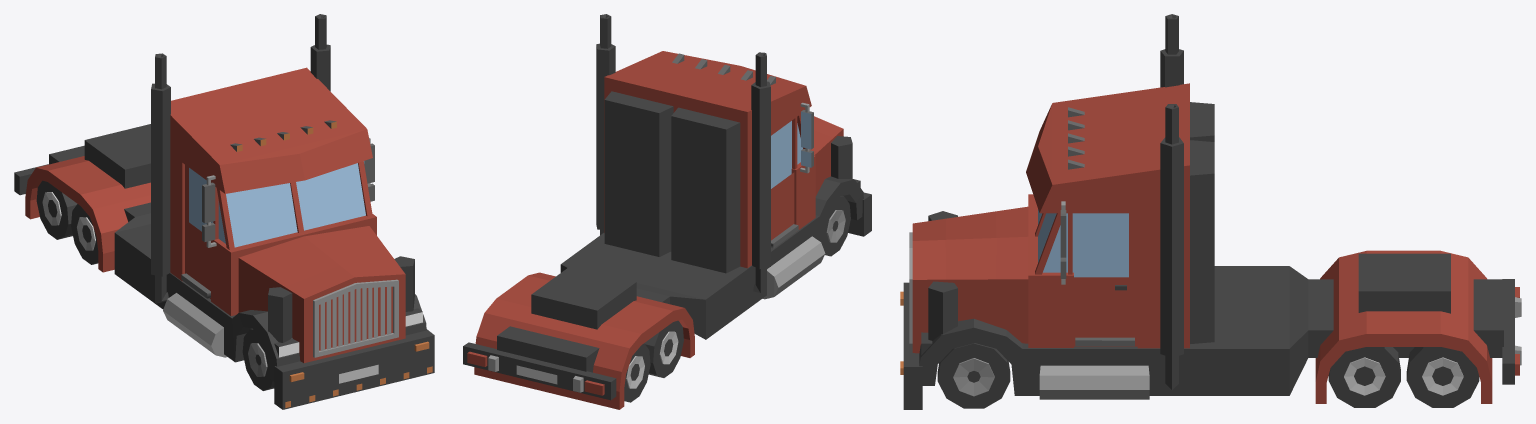
File: transport_truck_001.glb
The picture shows the model from 3 angles, left to right: view 1: azimuth 30°, elevation 25°; view 2: azimuth 150°, elevation 25°; view 3: azimuth 270°, elevation 25°; orthographic projection. The views are drawn at different scales.
Visible parts, largest first — view 1: transport_truck_001; view 2: transport_truck_001; view 3: transport_truck_001.
Boxes of the visible parts, x1,y1,x2,y2 form: transport_truck_001: (14, 14, 434, 409); transport_truck_001: (463, 14, 871, 409); transport_truck_001: (900, 14, 1521, 409).
Bounding box in the file's own units: 2.13 × 3.07 × 5.6.
1 material, 1 textured.
